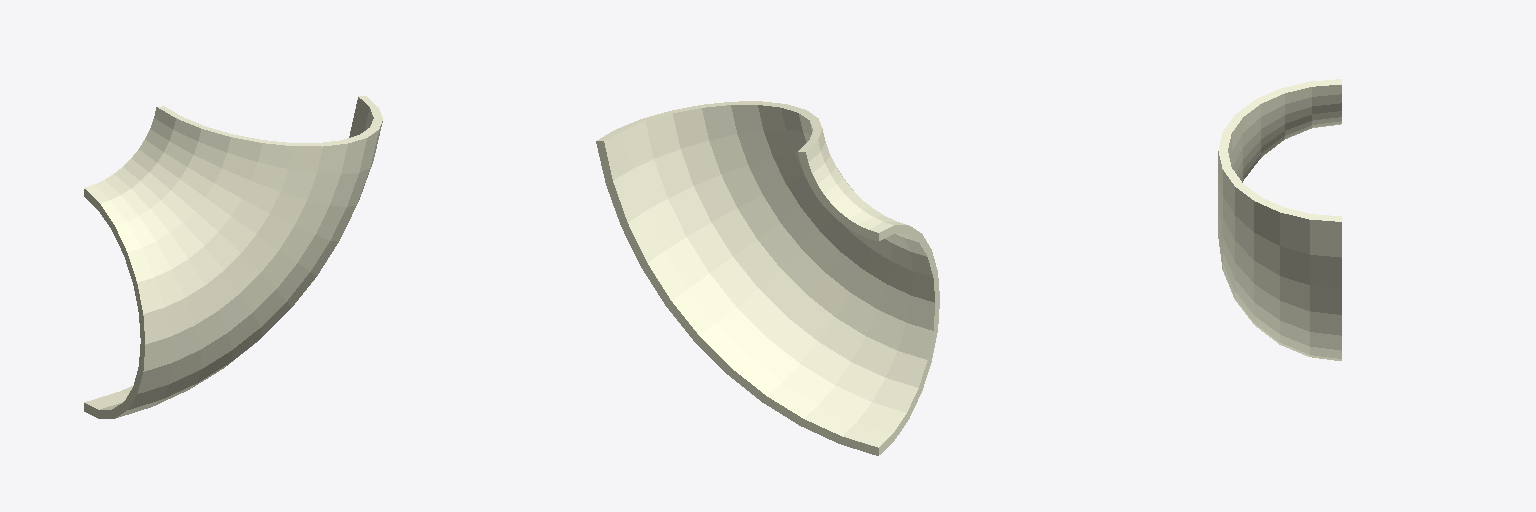
The model's file is section_021.obj.
3 views of the same model, side by side, from view 1: azimuth 30°, elevation 25°; view 2: azimuth 150°, elevation 25°; view 3: azimuth 270°, elevation 25° (orthographic).
Bounding box in the file's own units: 34.42 × 33.37 × 13.